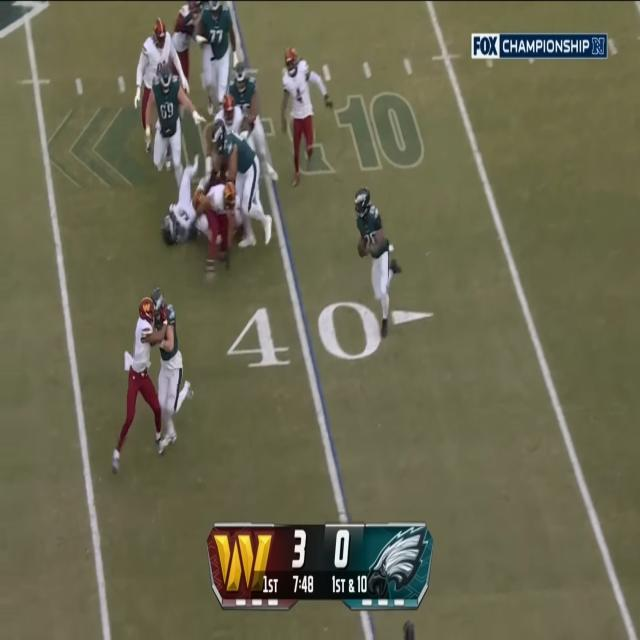Ball: (357, 236, 368, 257)
